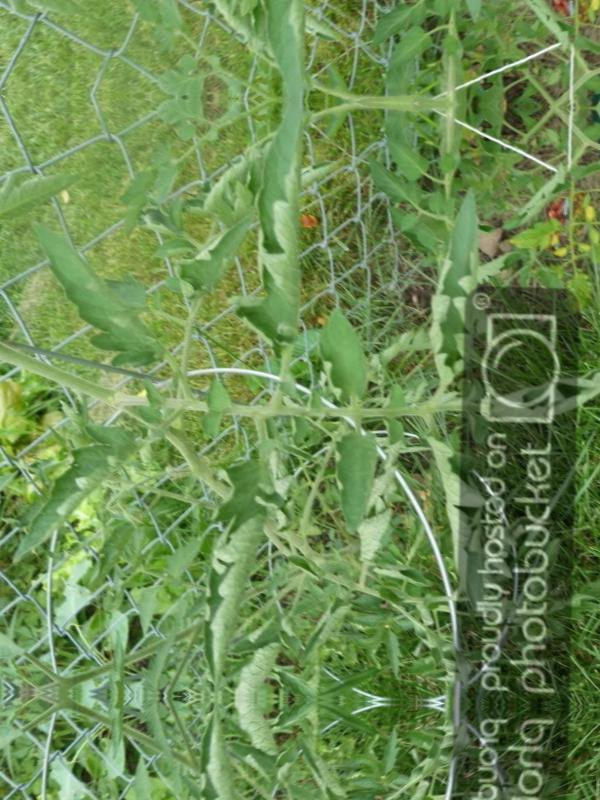Tomato mold leaf: (235, 109, 319, 355), (30, 220, 164, 373), (207, 443, 275, 679), (317, 307, 384, 414), (334, 432, 386, 539)
